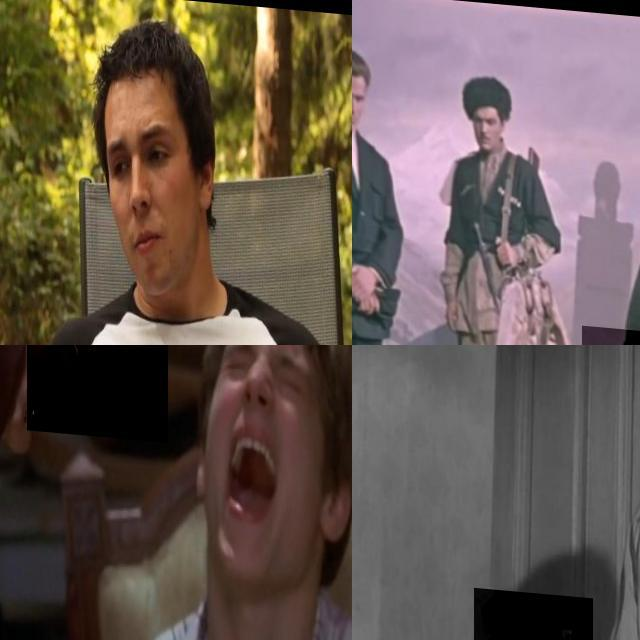-: (0, 157, 29, 345)
gun-knife-thesis - v11 Yolov5 augmented: (27, 345, 167, 438), (474, 585, 592, 640)
